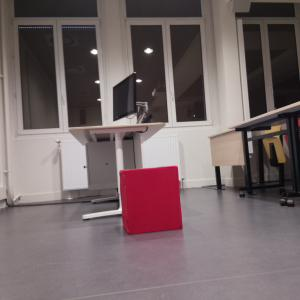medium: (117, 165, 187, 238)
